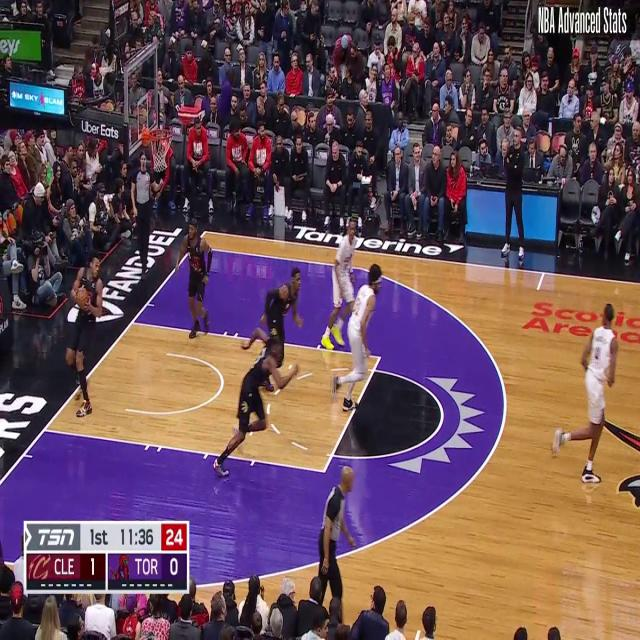ball: (74, 286, 90, 311)
judge: (319, 471, 356, 604), (131, 151, 159, 278)
player: (548, 303, 618, 485), (210, 346, 302, 473), (242, 268, 304, 395), (332, 264, 382, 418), (66, 259, 102, 420), (174, 219, 214, 337), (327, 221, 360, 341)
